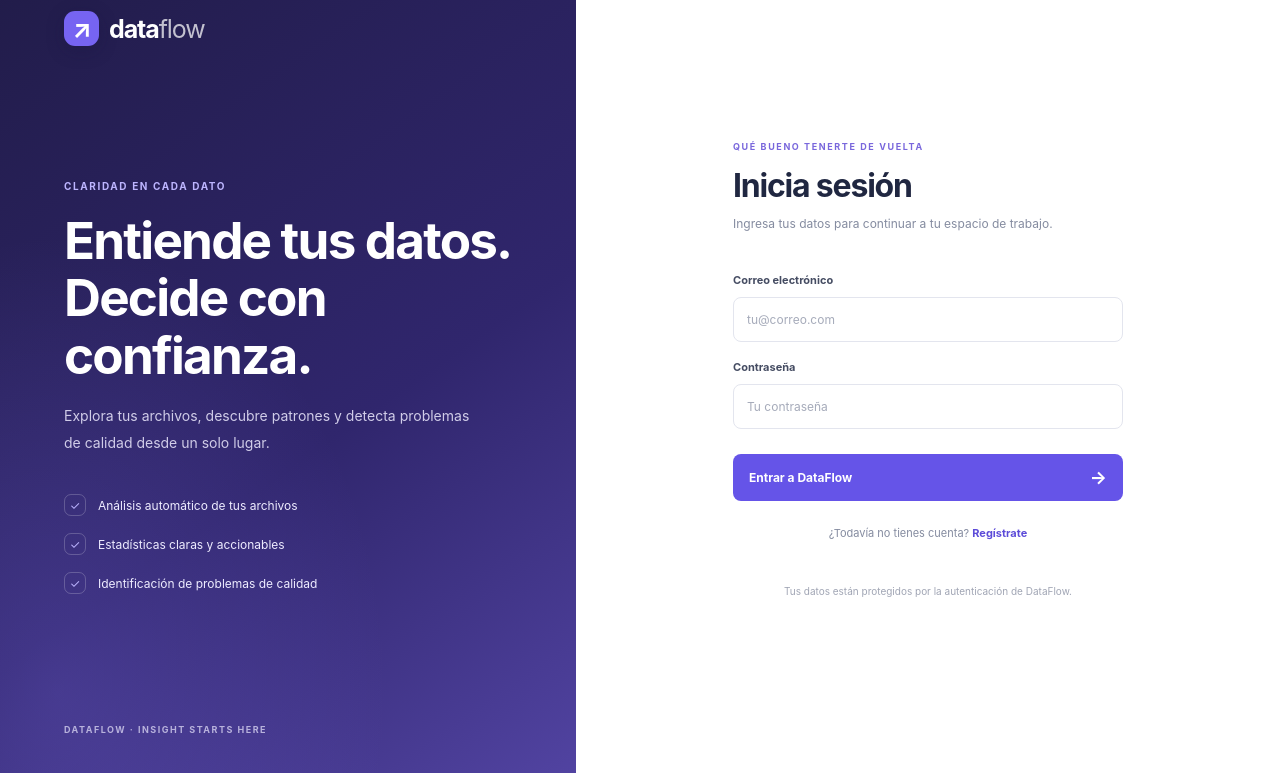
App › conserva los resultados si falla la actualización de archivos después del análisis
The width and height of the screenshot is (1280, 773).
Type "test@dataflow.com" into the field labelled "Correo electrónico" at (928, 320), box [733,297,1123,342]
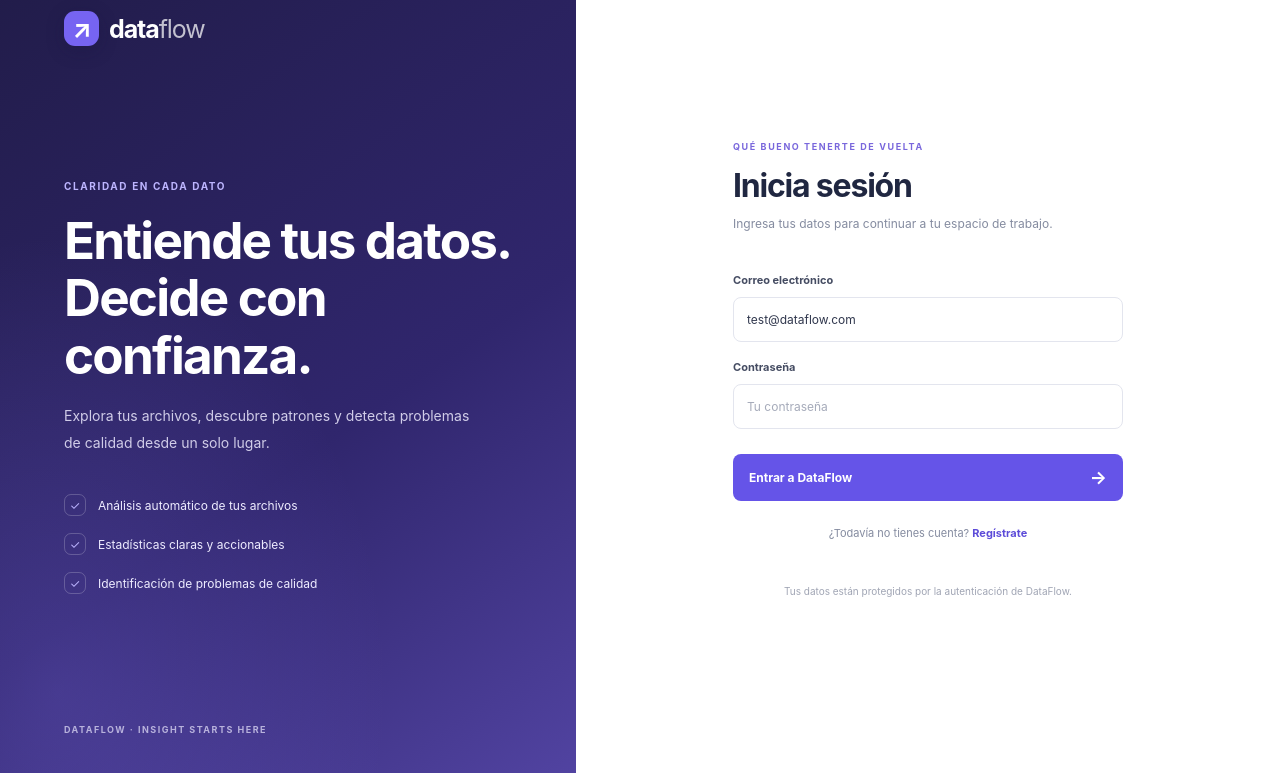
Type "password123" into the password field labelled "Contraseña" at (928, 407), box [733,384,1123,429]
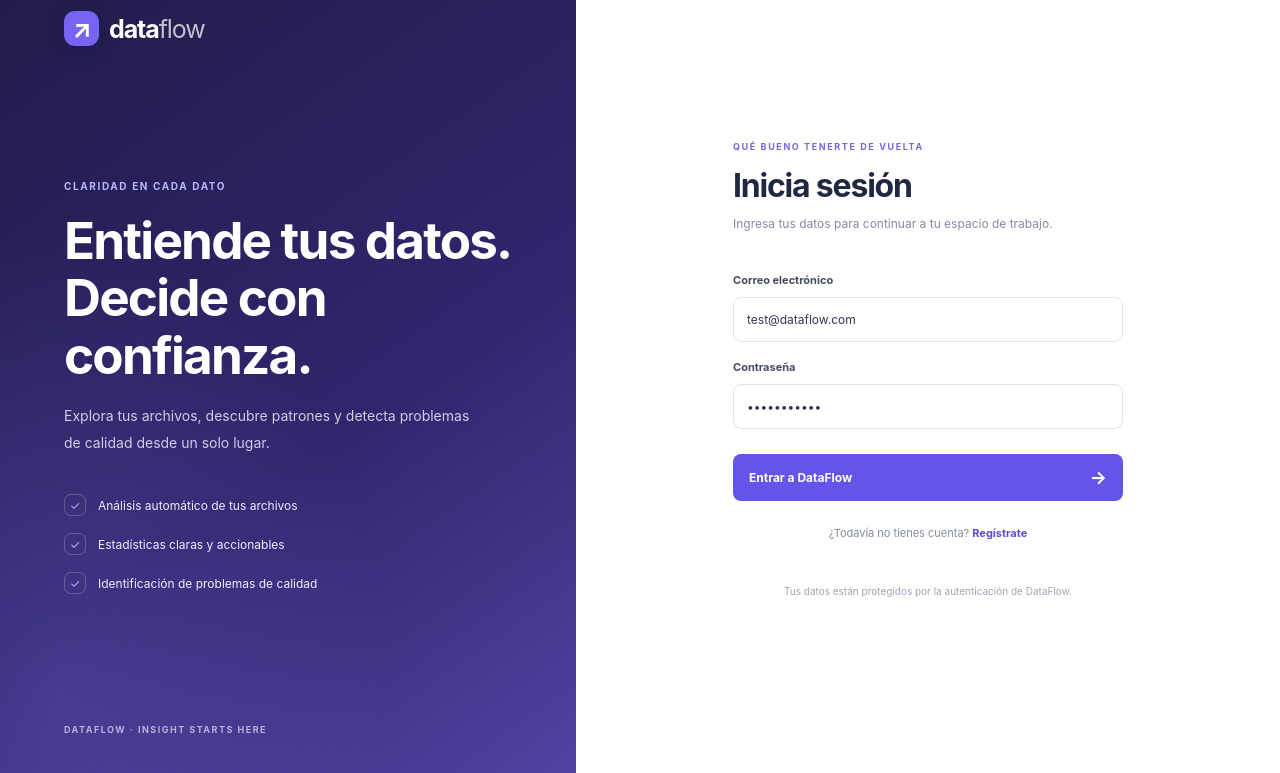
Click the button "Entrar a DataFlow →" at (801, 478), box [733,454,1123,501]
(page scrolled)
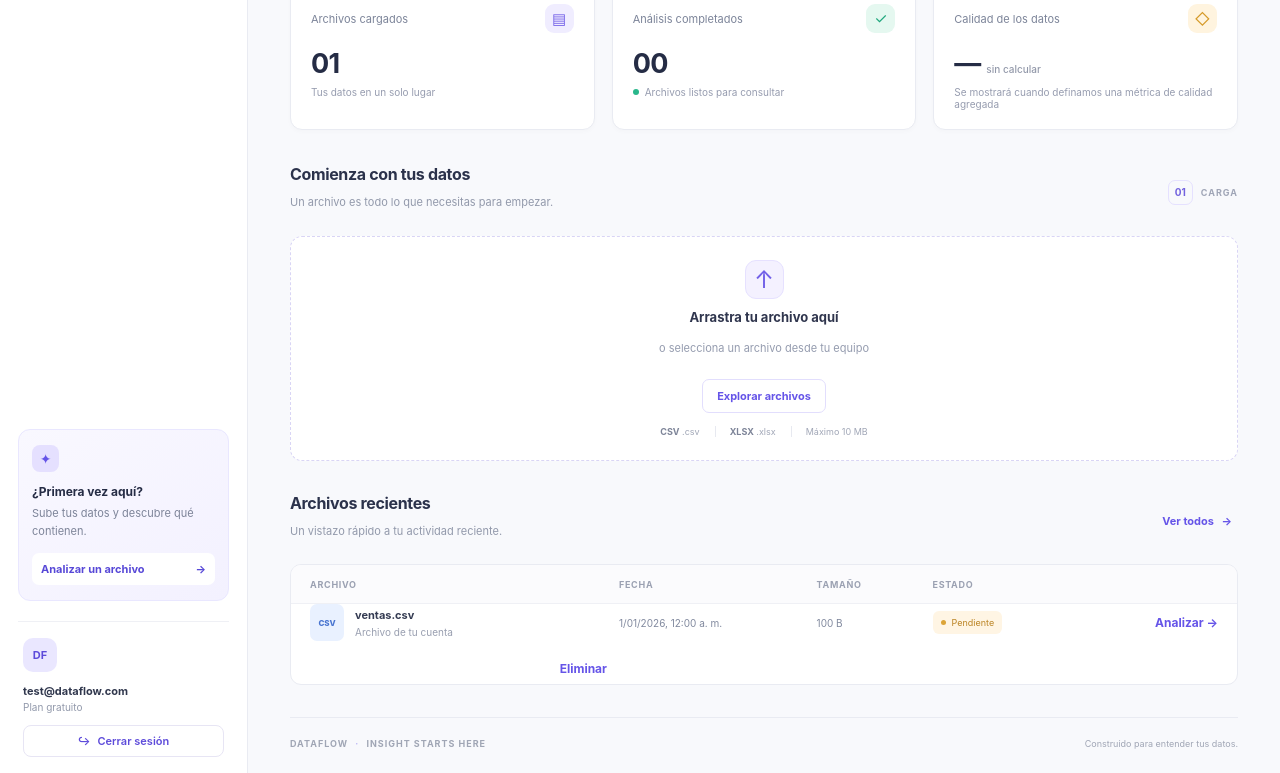
Click the button "Analizar →" at (1183, 623), box [1147,607,1218,638]
(page scrolled)
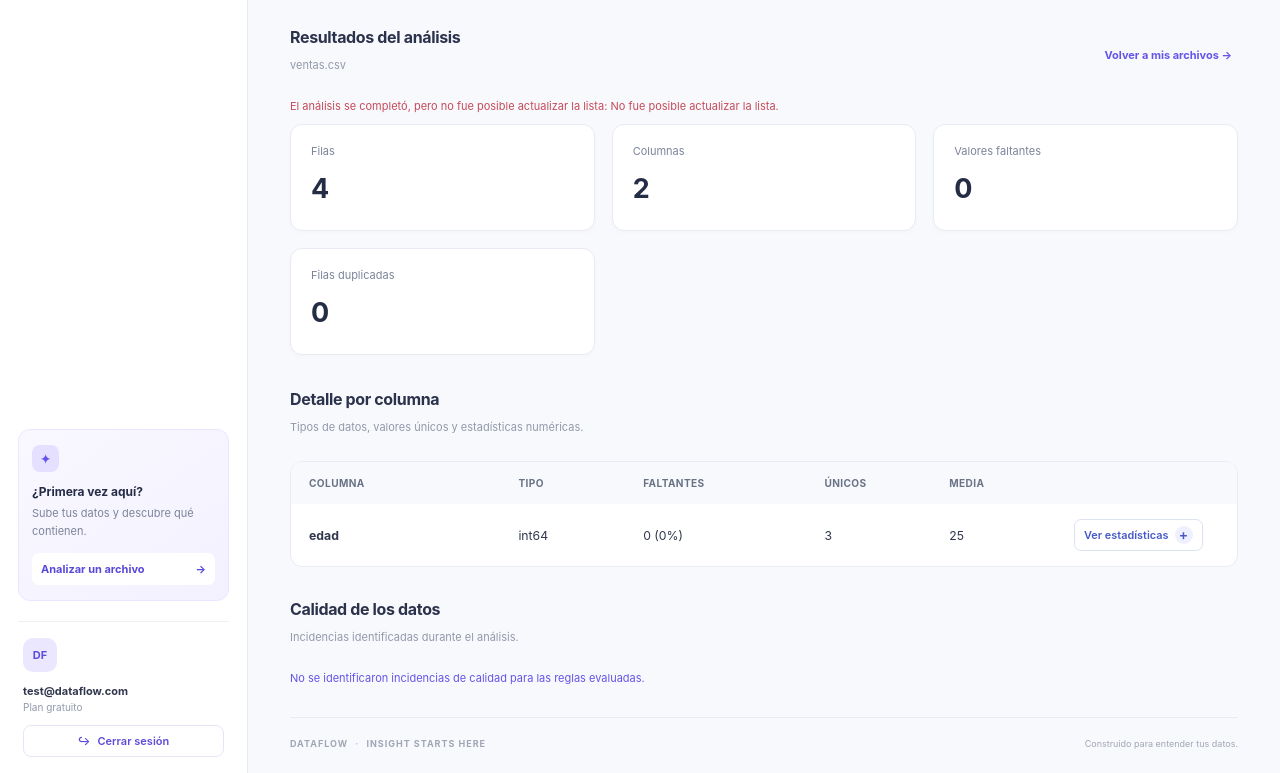
Now the heading "Resultados del análisis" is shown, box [290,27,460,47]
Now the text "4" is shown, box [311,172,329,205]
Now the 1st message shows "El análisis se completó, pero no fue posible actualizar la lista", box [290,99,779,113]
Click the heading "edad" at (1138, 535), box [309,519,1202,551]
(page scrolled)
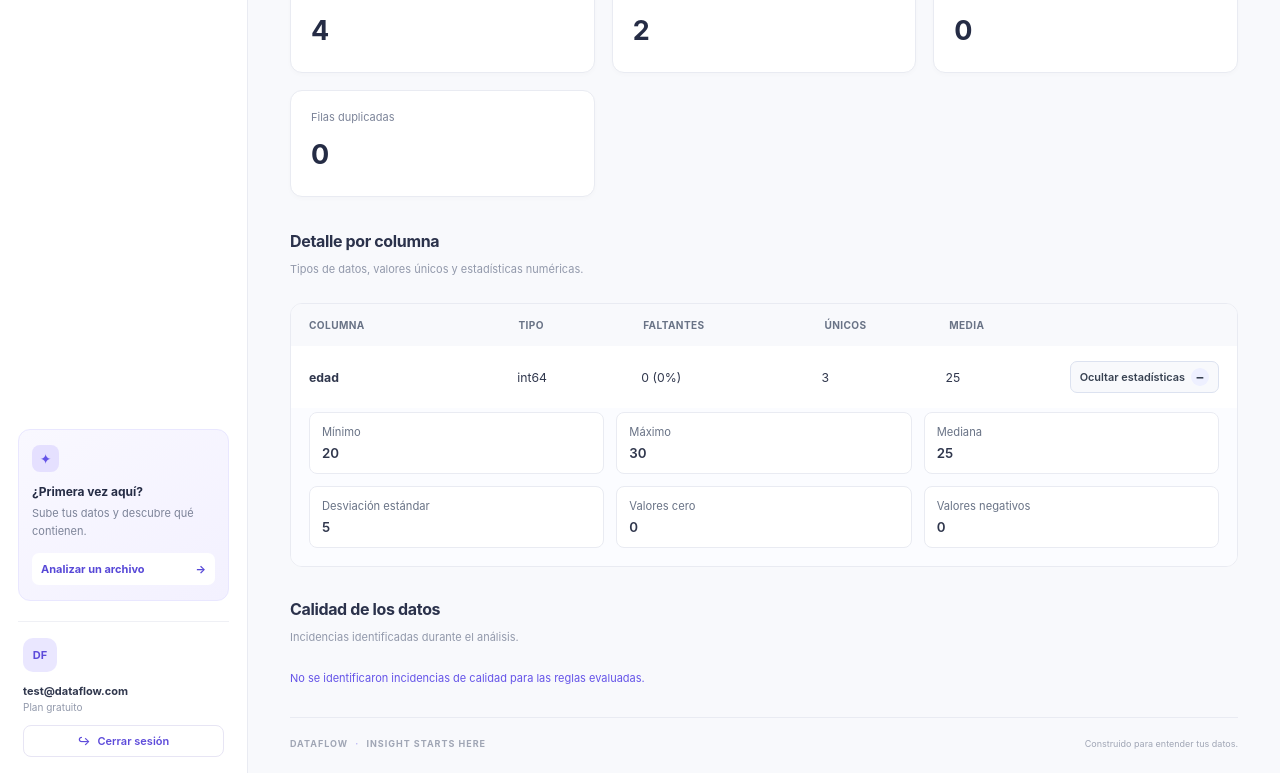
Now the text "Mínimo" is shown, box [322,425,361,439]
Now the text "Máximo" is shown, box [629,425,671,439]
Now the text "Mediana" is shown, box [937,425,982,439]
